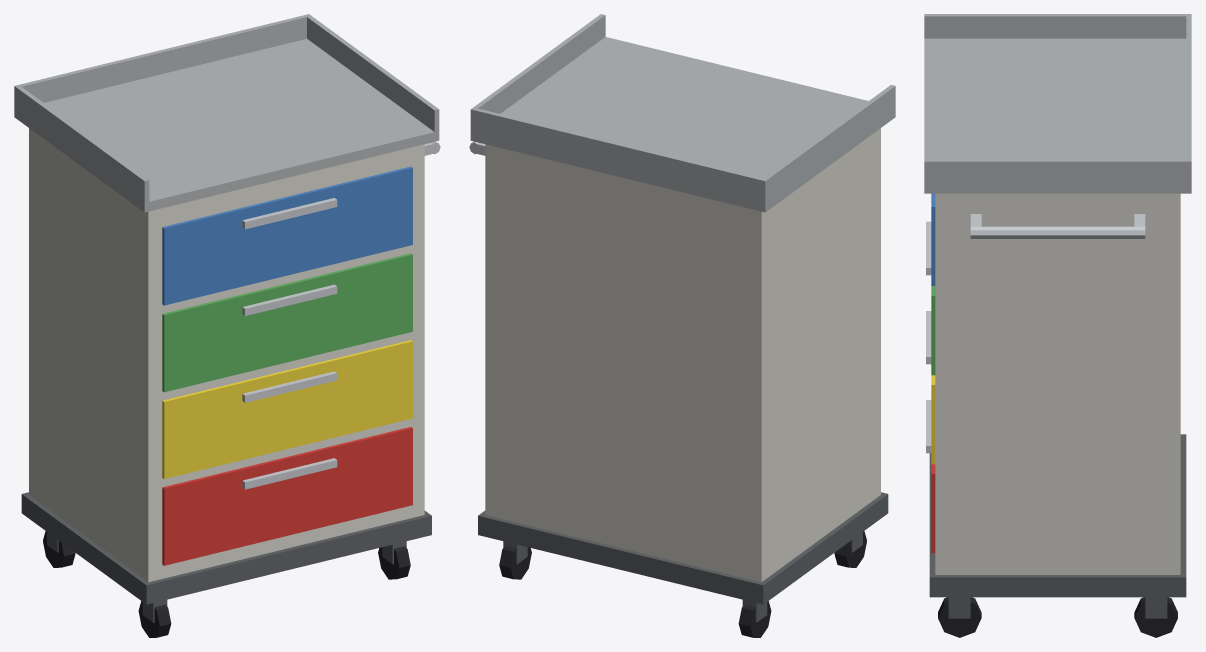
The model's file is Supply_Cart.fbx.
3 renders of one model, left to right at view 1: azimuth 30°, elevation 25°; view 2: azimuth 150°, elevation 25°; view 3: azimuth 270°, elevation 25°, orthographic. The views are drawn at different scales.
Parts seen in each view (by area): view 1: Supply_Cart; view 2: Supply_Cart; view 3: Supply_Cart.
Part boxes in pixels (x1,y1,x2,y2): Supply_Cart: (14, 14, 440, 637); Supply_Cart: (469, 14, 895, 637); Supply_Cart: (924, 14, 1191, 637).
Bounding box in the file's own units: 0.692 × 0.985 × 0.49.
